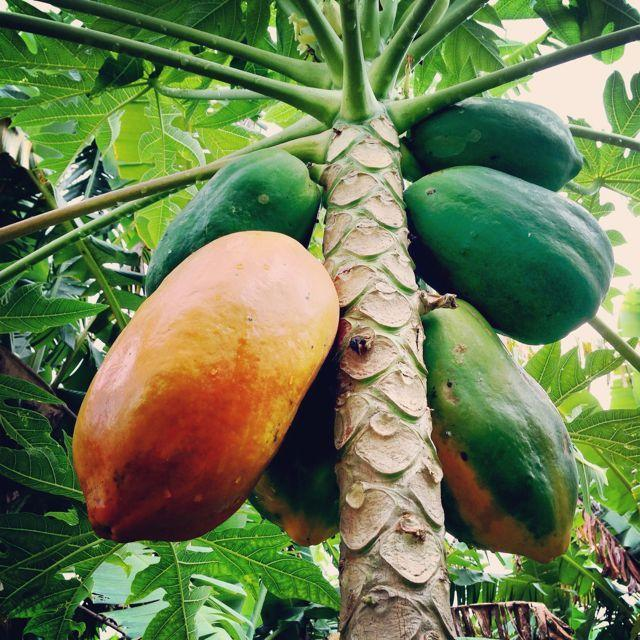Pepaya rippen: (64, 230, 344, 558), (421, 309, 577, 561)
Pepaya unrippen: (407, 175, 631, 353), (406, 90, 595, 199)
